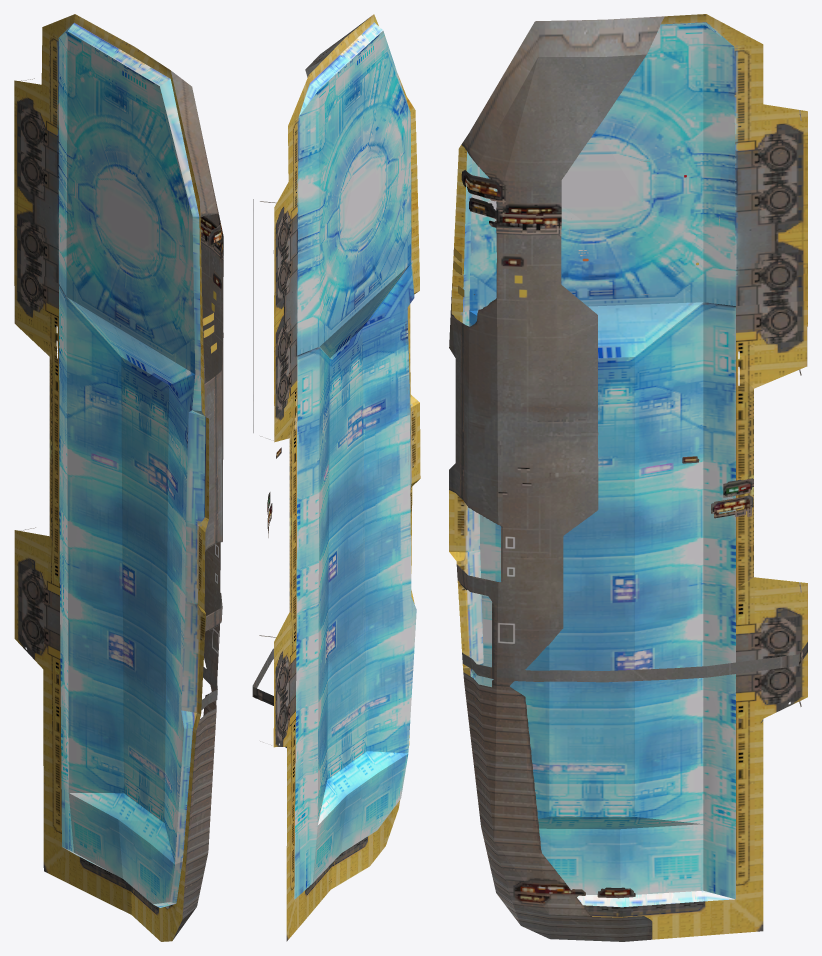
The picture shows the model from 3 angles, left to right: view 1: azimuth 30°, elevation 25°; view 2: azimuth 150°, elevation 25°; view 3: azimuth 270°, elevation 25°; orthographic projection. The views are drawn at different scales.
Visible parts, largest first — view 1: side_lower, side_upper; view 2: side_lower, side_upper; view 3: side_lower, side_upper, badge_door1.
Part boxes in pixels (x1,y1,x2,y2): side_lower: [14, 14, 223, 940]; side_upper: [14, 22, 208, 941]; side_lower: [252, 14, 419, 899]; side_upper: [252, 22, 420, 941]; side_lower: [449, 14, 807, 941]; side_upper: [449, 22, 807, 939]; badge_door1: [566, 457, 598, 533].
Size of the model in its own units: 85.96 by 1126 by 398.
